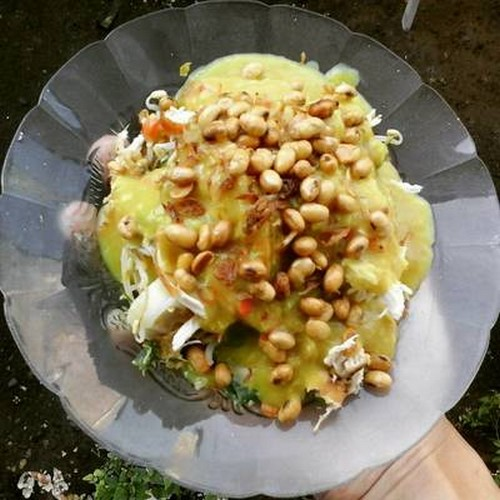tipat blayag: (93, 44, 439, 424)
